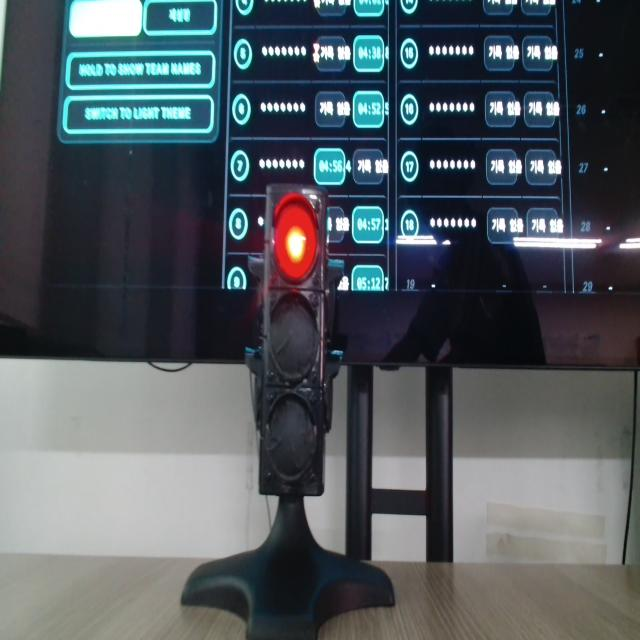red_light: (274, 194, 317, 282)
